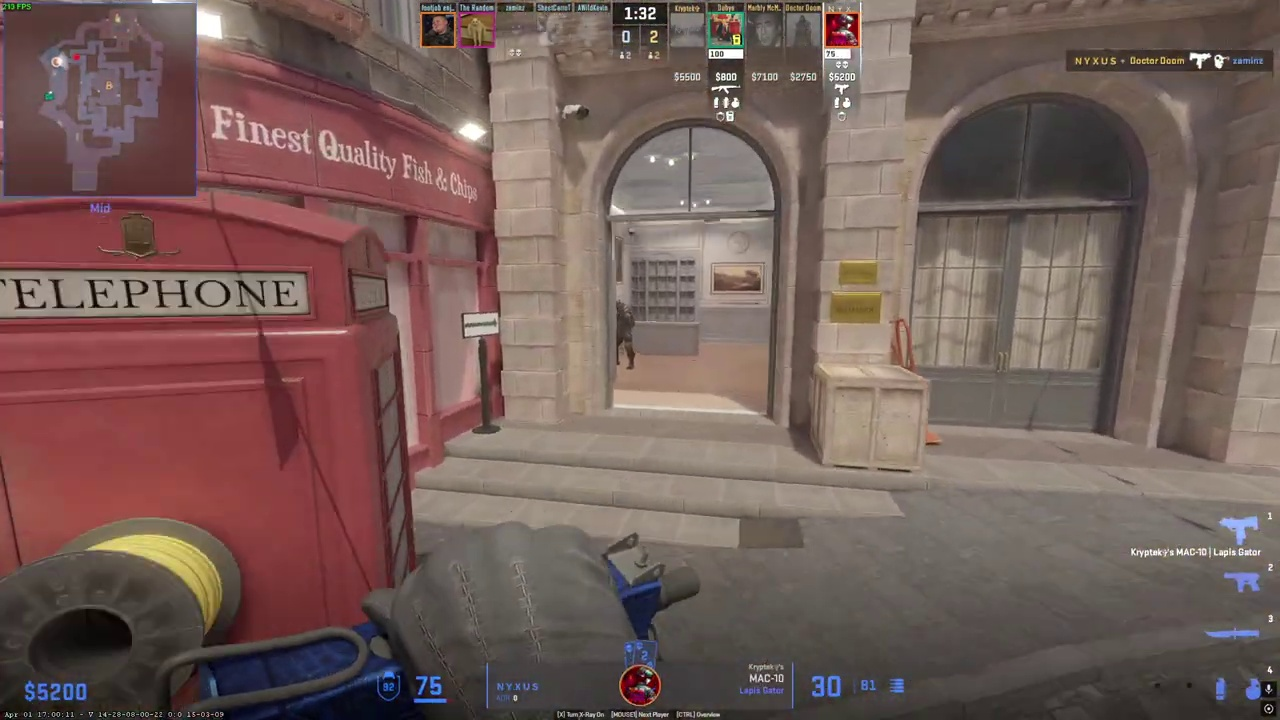CT: (614, 300, 635, 370)
